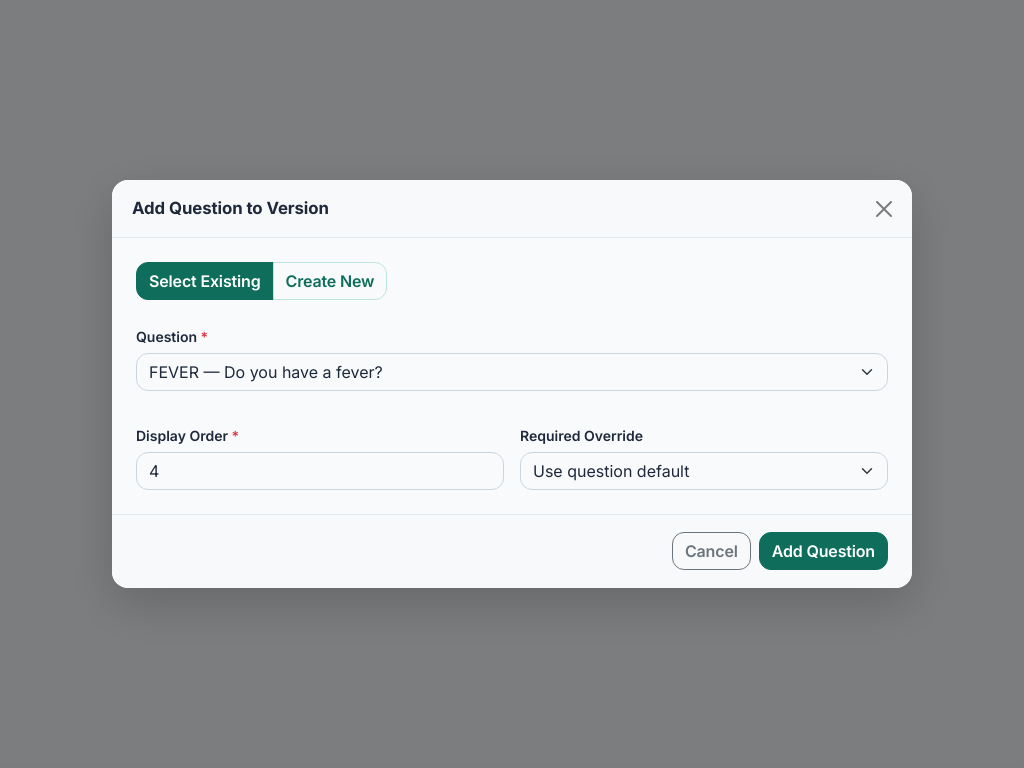
Test: AddQuestionnaireItemModal › supports local add/remove option rows for SINGLE_CHOICE
This screenshot has width=1024, height=768.
Click the button "Create New" at [330, 281], box [272,262,387,300]
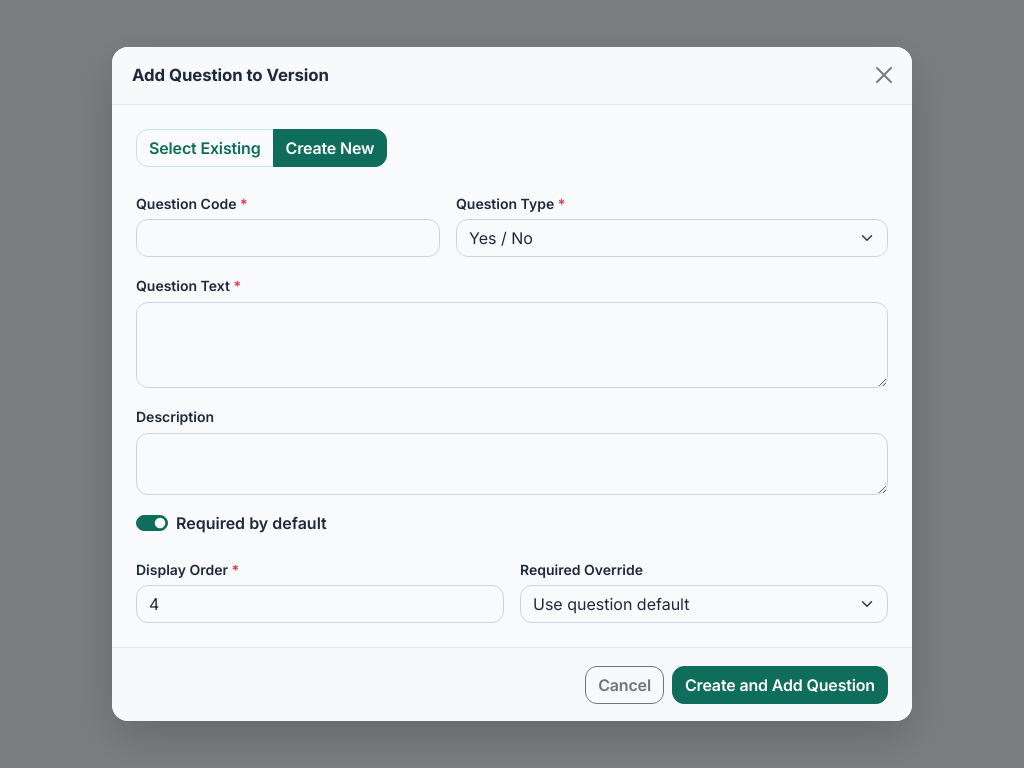
Type "NEW_CODE" into the field labelled "Question Code *" at [288, 238], box [136,219,440,257]
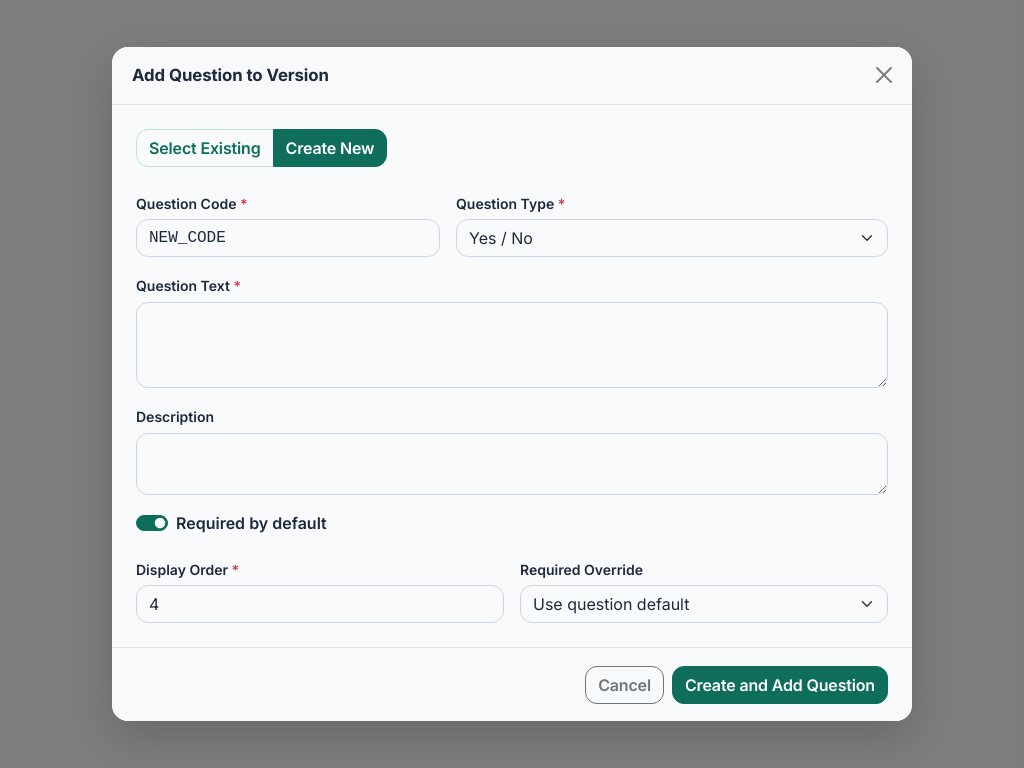
Type "New question?" into the text box labelled "Question Text *" at [512, 345], box [136,302,888,388]
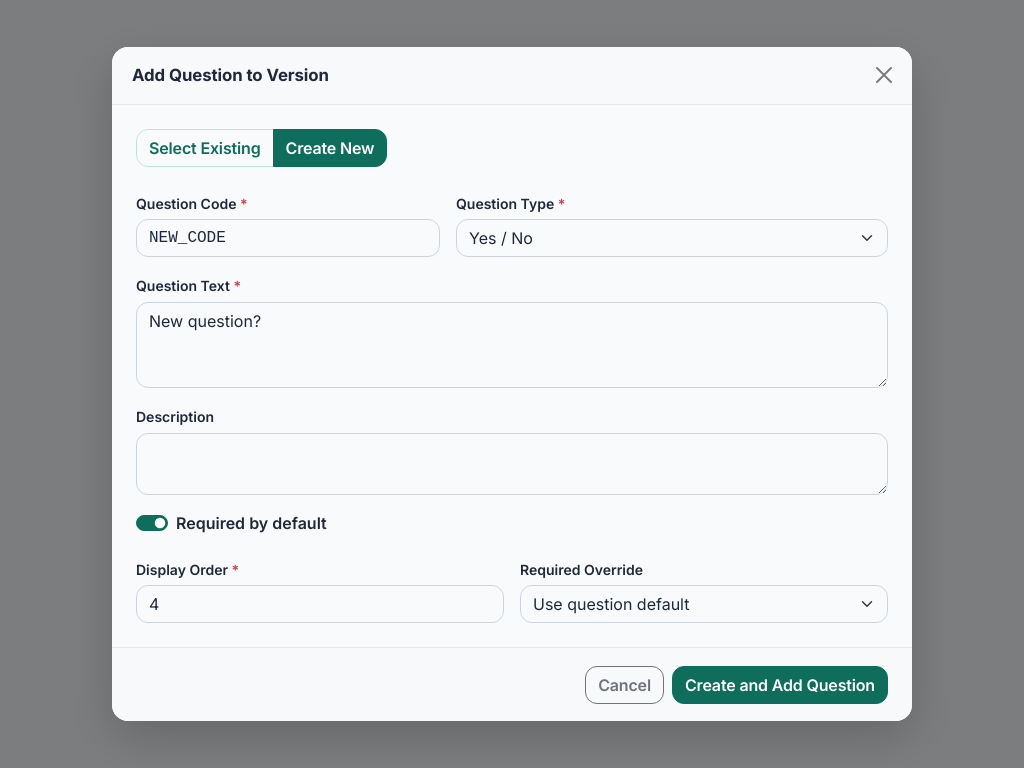
Select "Single Choice" in the dropdown labelled "Question Type *" at [672, 238], box [456,219,888,257]
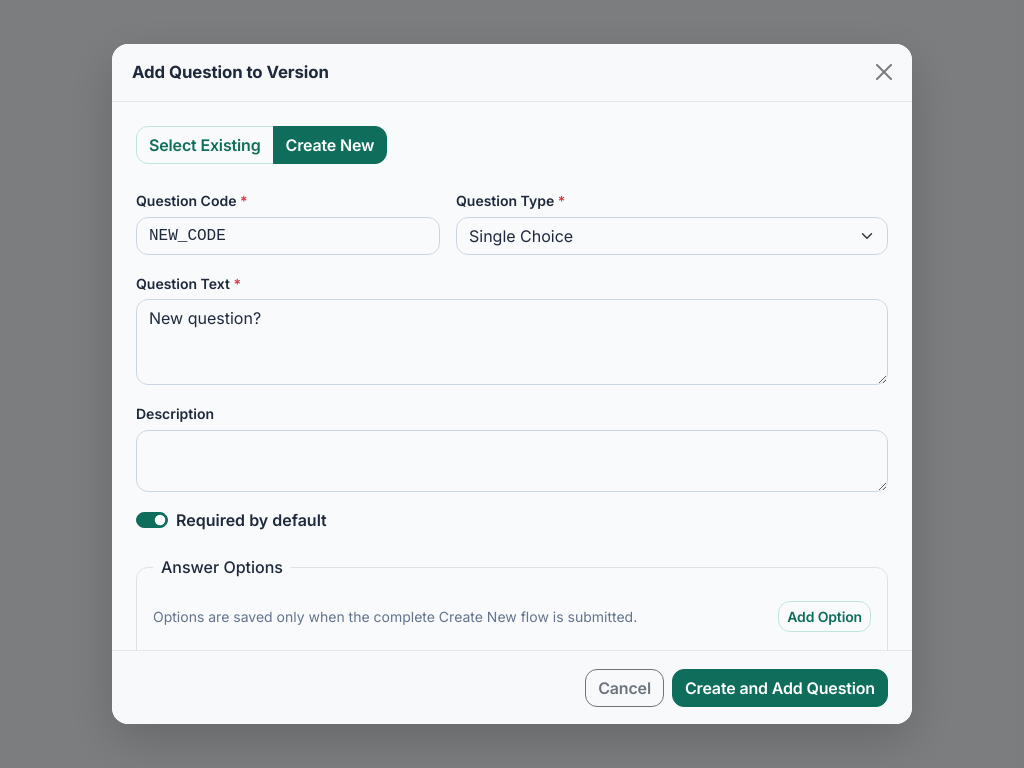
Click the button "Add Option" at [825, 616], box [778,601,871,632]
(page scrolled)
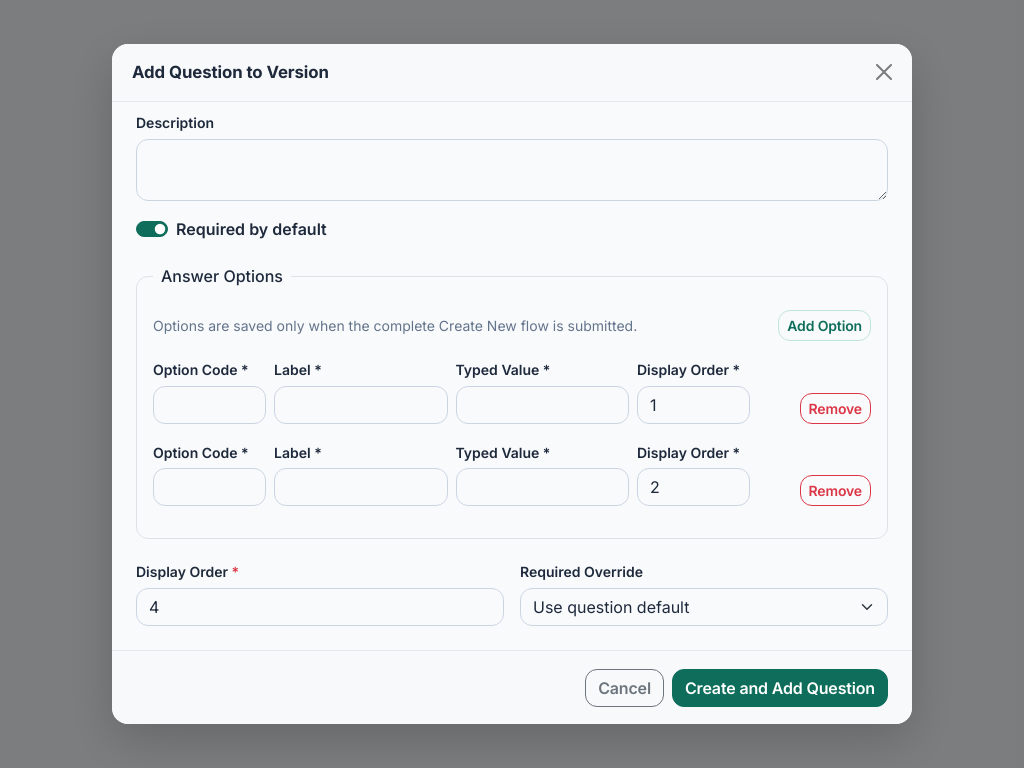
Expected: the number of elements with test id "new-question-option-row" is 2, [149,349,875,424]; [149,432,875,506]
Click the button with aria-label "Remove option 2" at [835, 491], box [800,475,871,506]
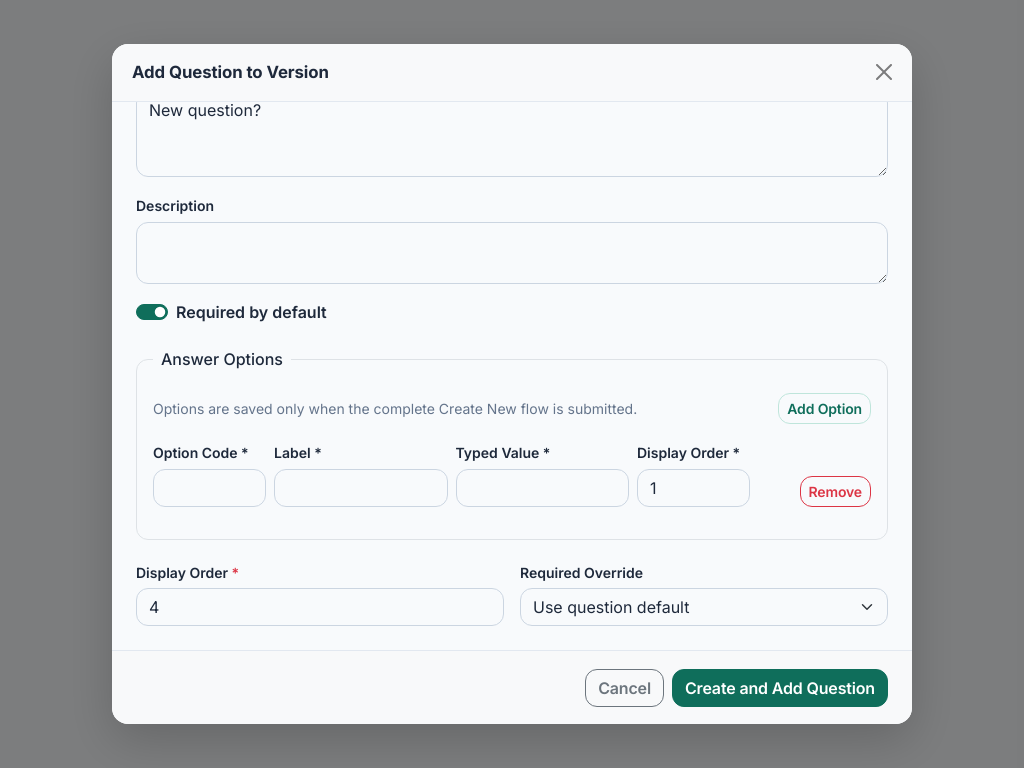
Expected: the number of elements with test id "new-question-option-row" is 1, [149,432,875,507]
